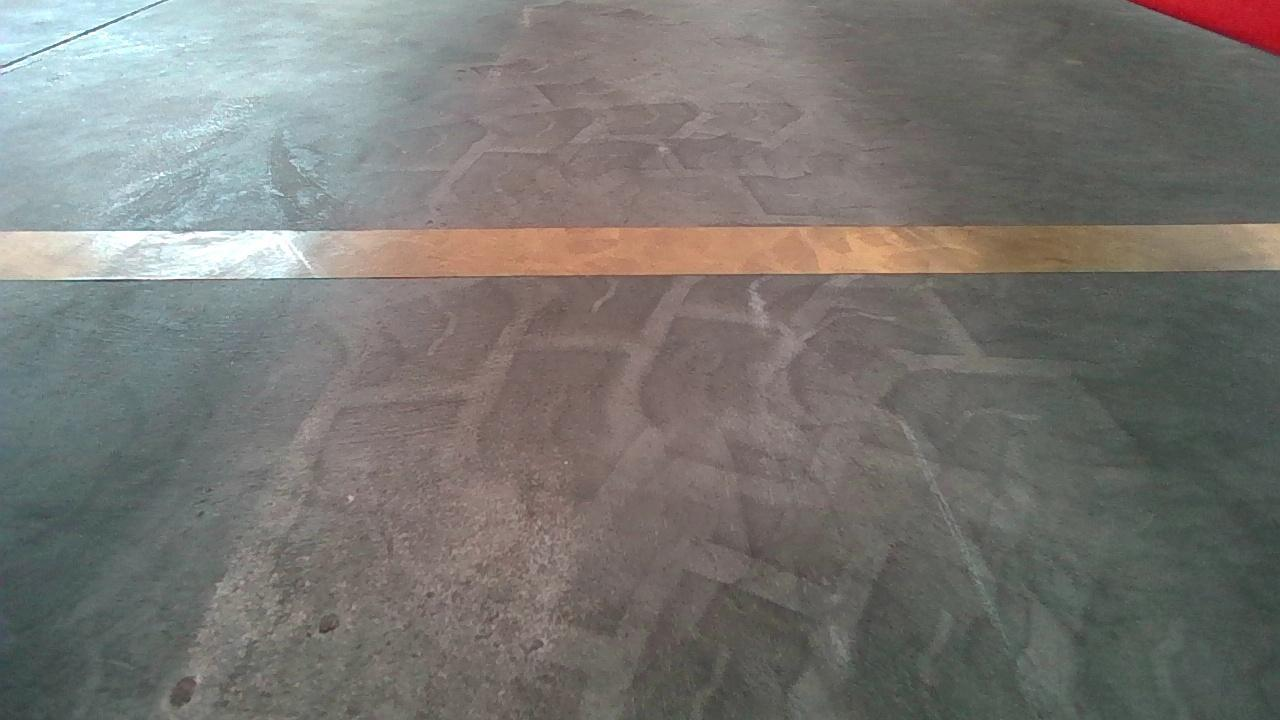yellow_line: (19, 215, 1280, 279)
